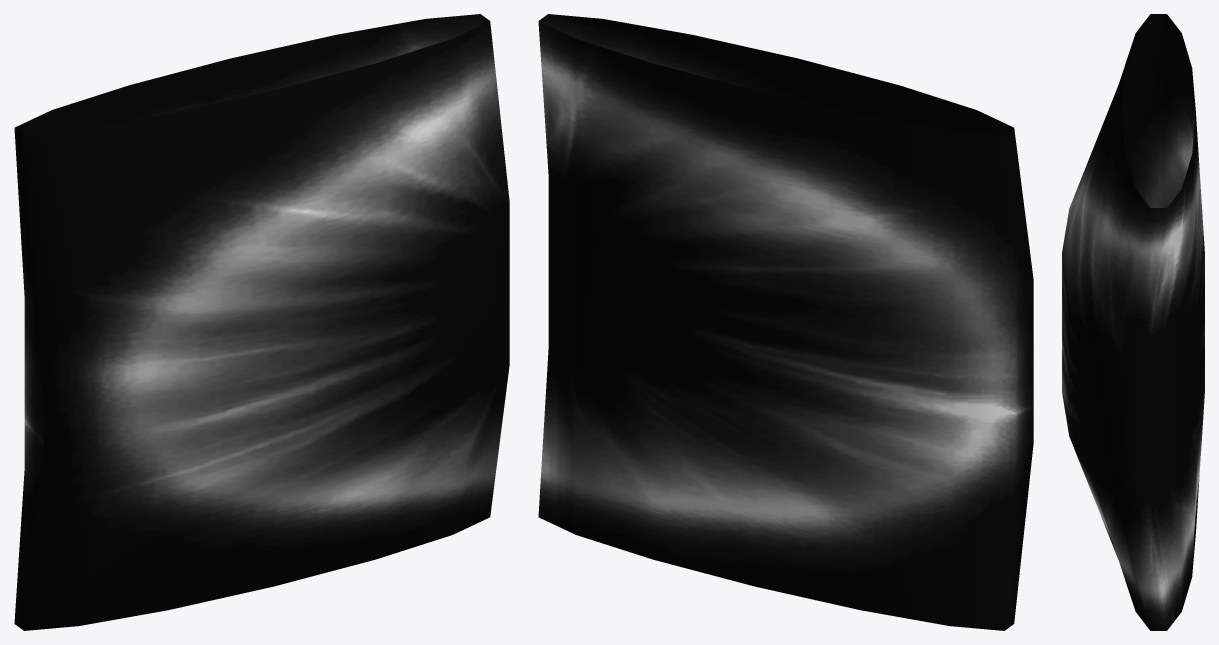
File: 0491_yipeiertaer_ring_z01.glb
3 views of the same model, side by side, from view 1: azimuth 30°, elevation 25°; view 2: azimuth 150°, elevation 25°; view 3: azimuth 270°, elevation 25° (orthographic). The views are drawn at different scales.
Bounding box in the file's own units: 2.16 × 2.2 × 0.6728.
1 material, 1 textured.
